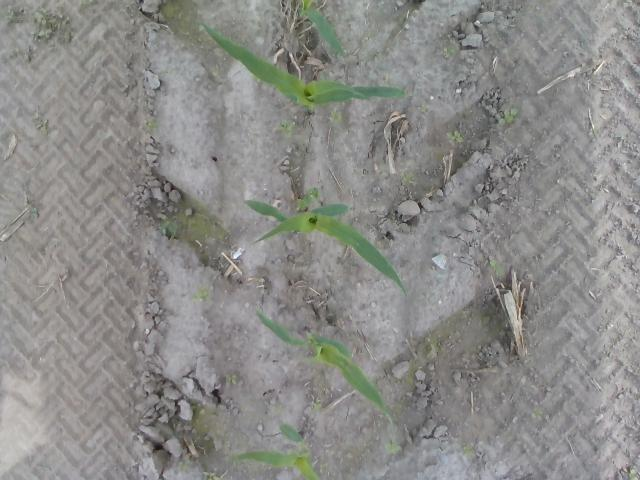Maize: (198, 19, 408, 116), (253, 304, 397, 432), (243, 199, 410, 296), (235, 423, 321, 480), (298, 1, 346, 57)
Weeds: (34, 13, 67, 43), (496, 106, 520, 128), (278, 118, 296, 138), (190, 288, 209, 304), (530, 400, 544, 421), (160, 217, 177, 232), (446, 130, 464, 144), (178, 456, 193, 472), (189, 402, 206, 416), (328, 107, 342, 123), (384, 442, 402, 453), (35, 118, 48, 132), (490, 259, 503, 273), (203, 471, 222, 480), (144, 118, 158, 128), (0, 15, 15, 24), (225, 374, 238, 384), (628, 468, 638, 480), (417, 103, 430, 112), (402, 174, 412, 184), (463, 447, 474, 456), (447, 47, 457, 56), (311, 400, 321, 408), (31, 207, 38, 216)
